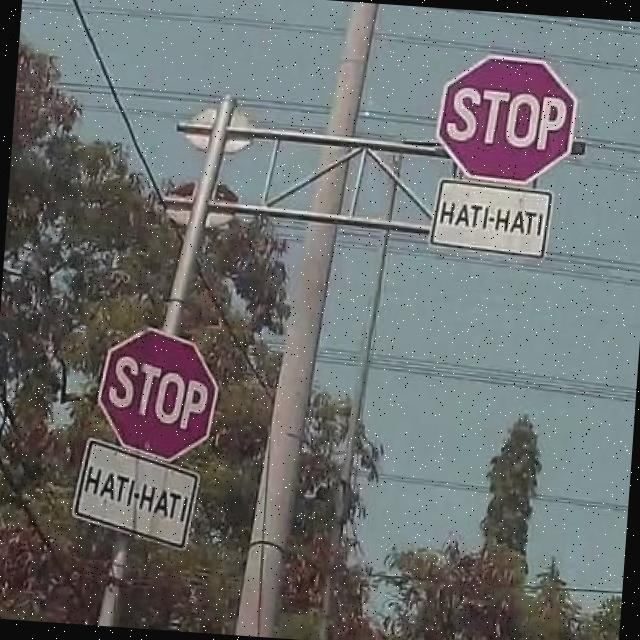Stop: (435, 50, 580, 190), (88, 326, 215, 466)
